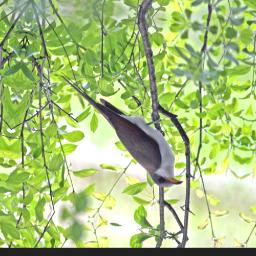Cuckoo: (48, 72, 198, 192)
